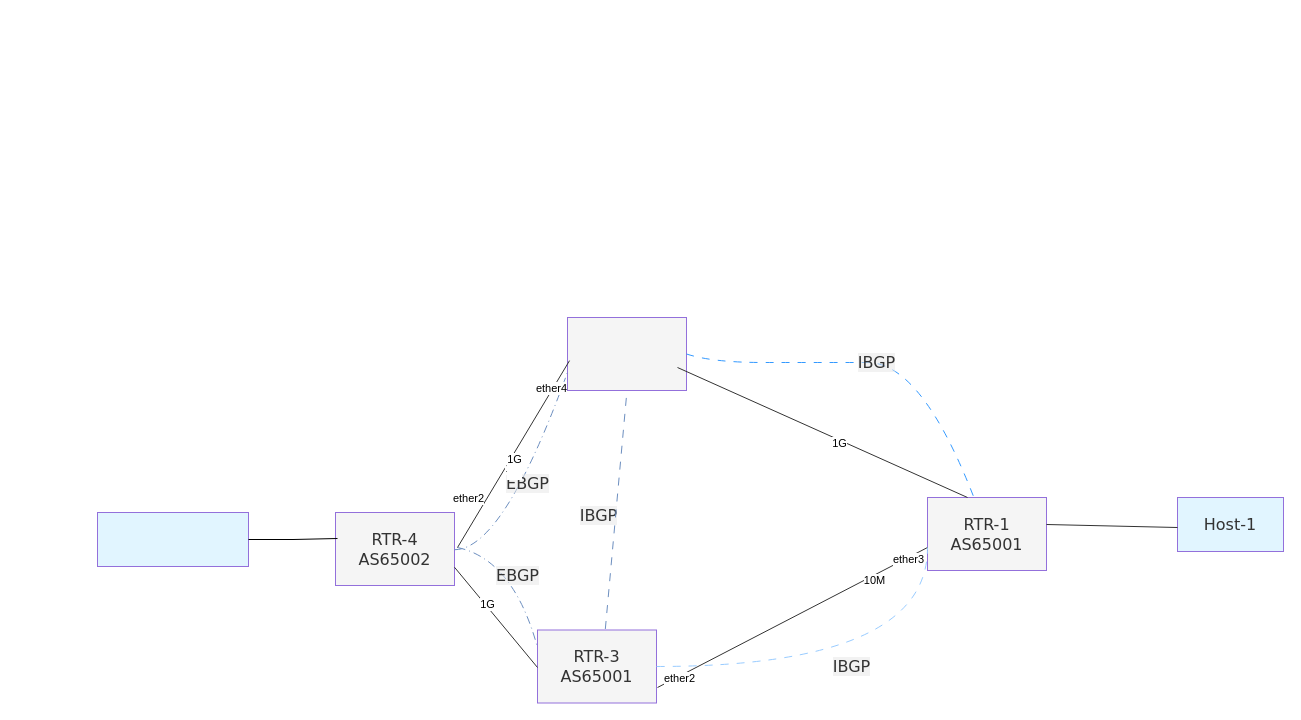
Some shapes in this 1301 by 720 pixel diagram are drawn without their labels. The centre of each missing label's shape, as x and y in pixels:
RTR-2 AS65001: the point at 626,353
Synthetic AG: the point at 172,539
